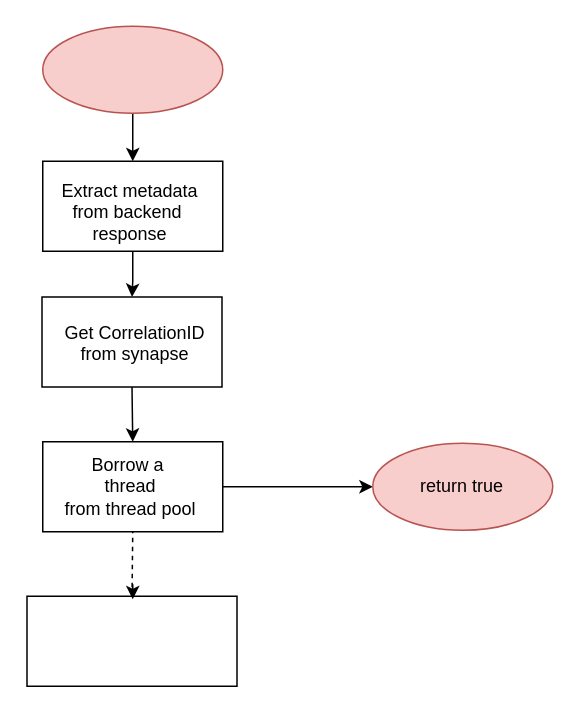
The diagram is 579 pixels wide and 713 high, and some of its shapes have lost their labels. Each missing label, with the centre of its shape:
Non Blocking Sideband Call to ASE and release the thread: point 131,640
START: point 132,69
